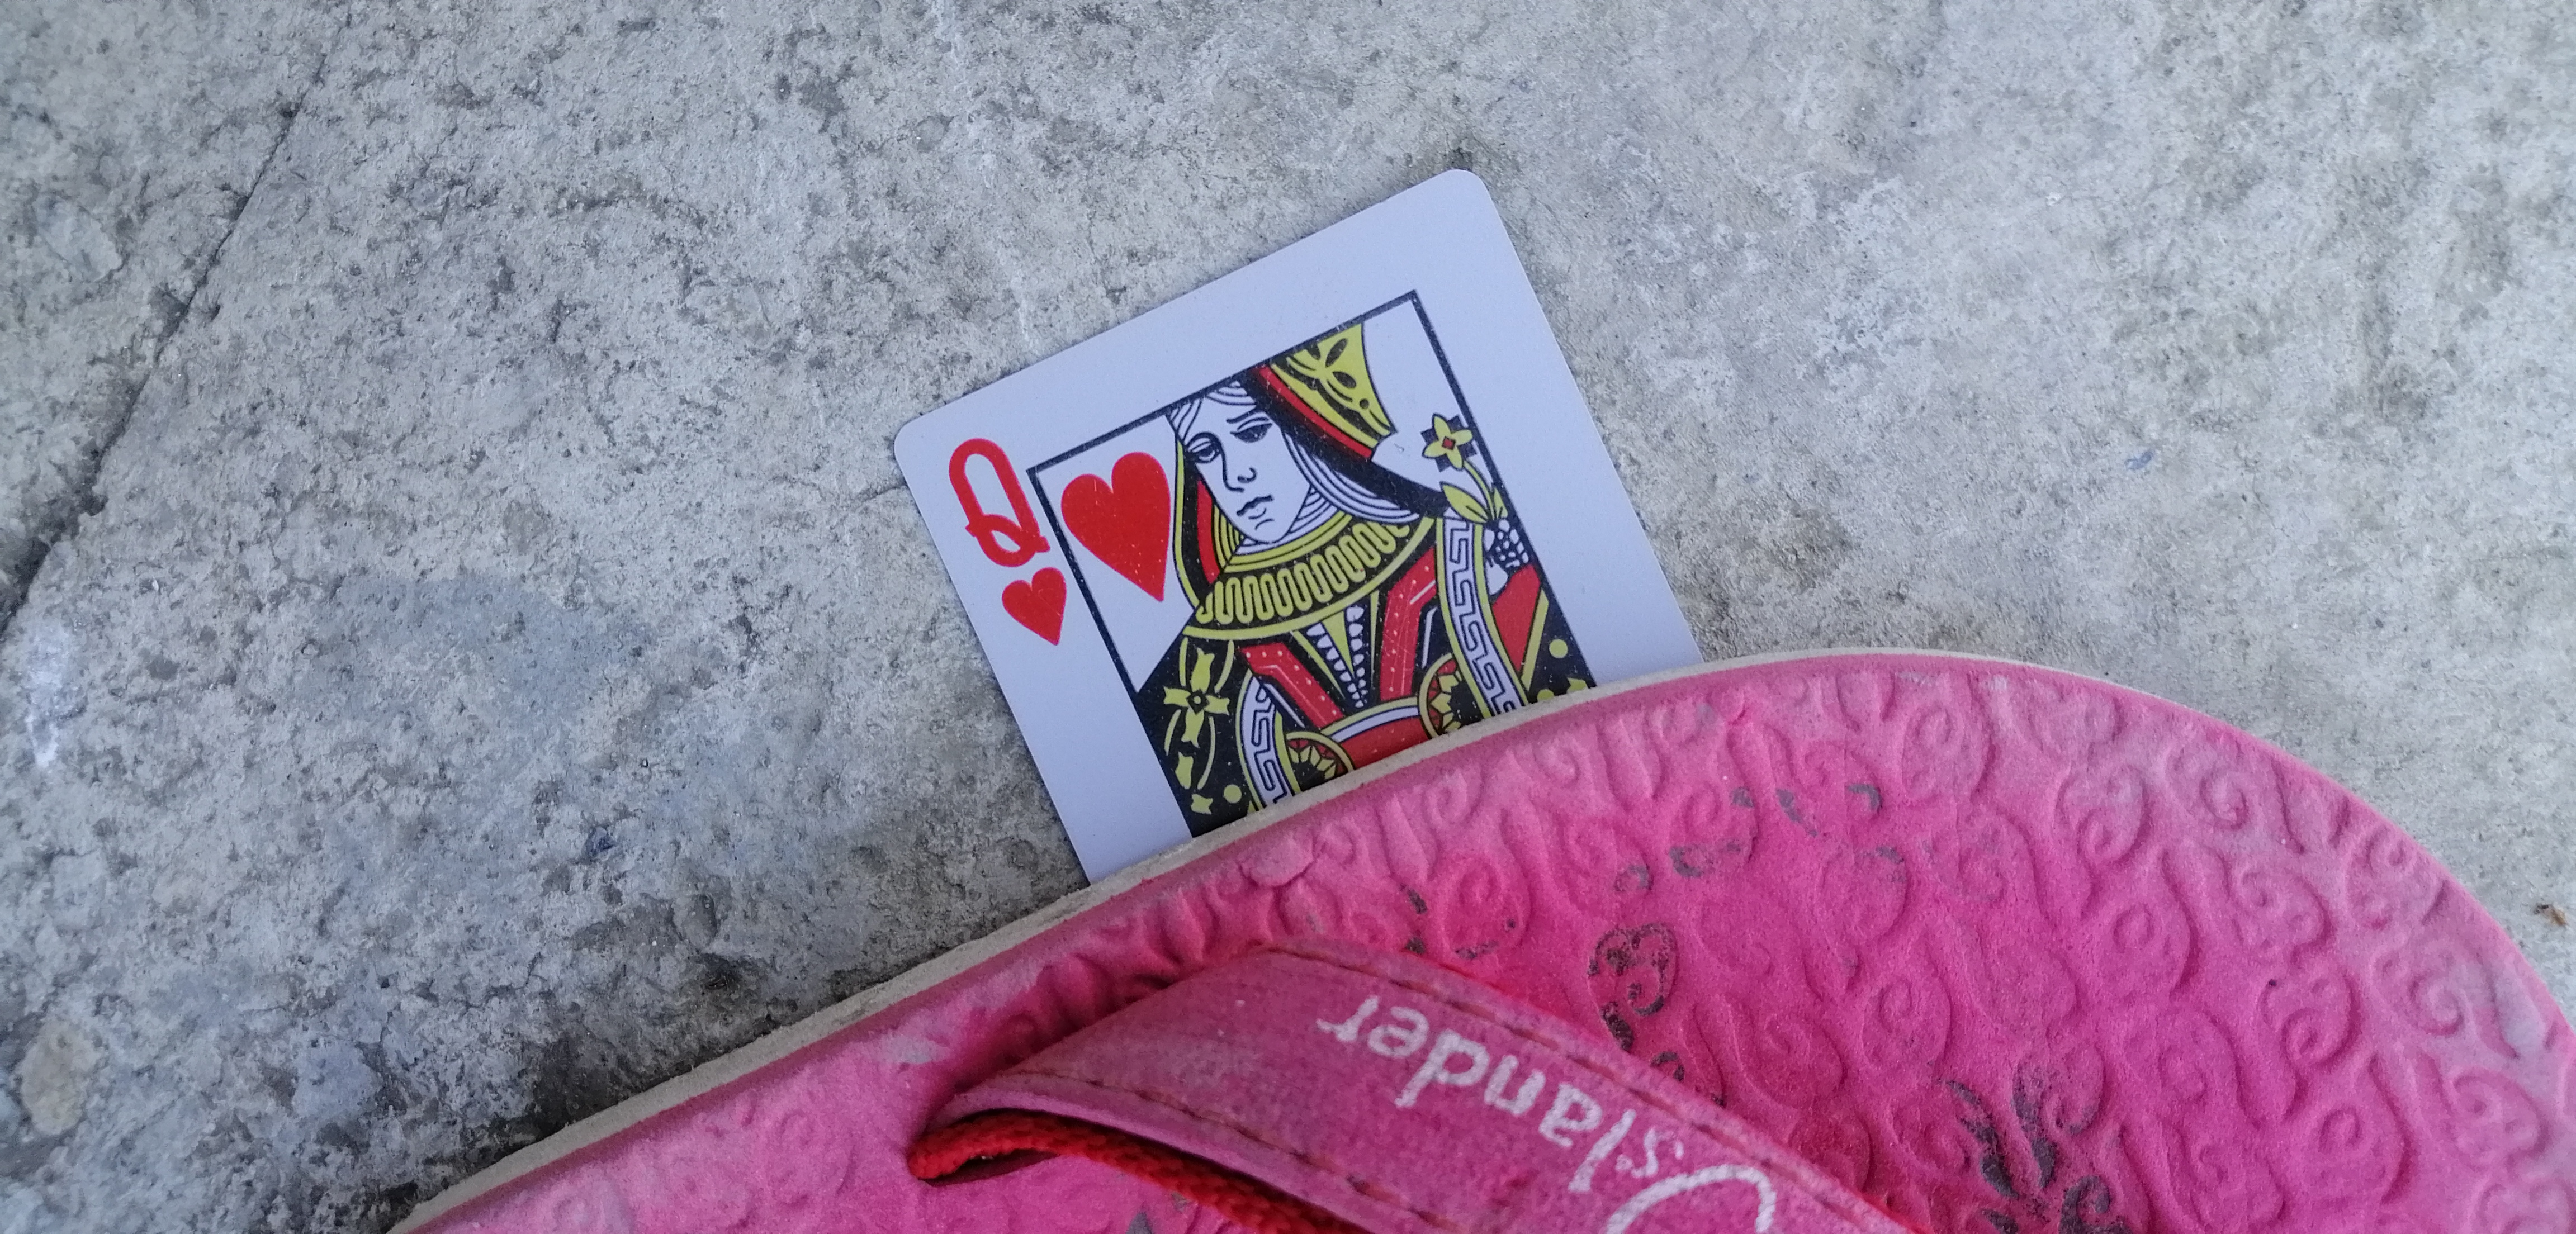queen: (867, 168, 1717, 904)
